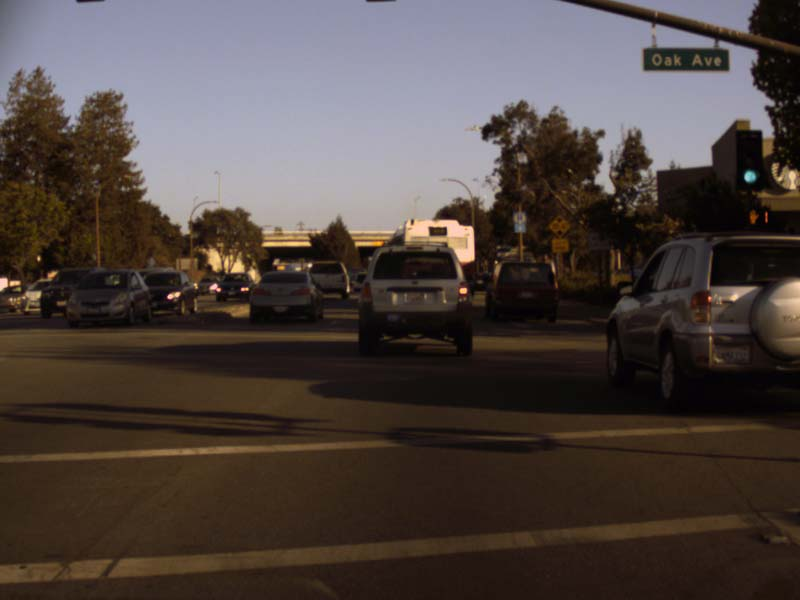Green: (735, 130, 761, 188)
